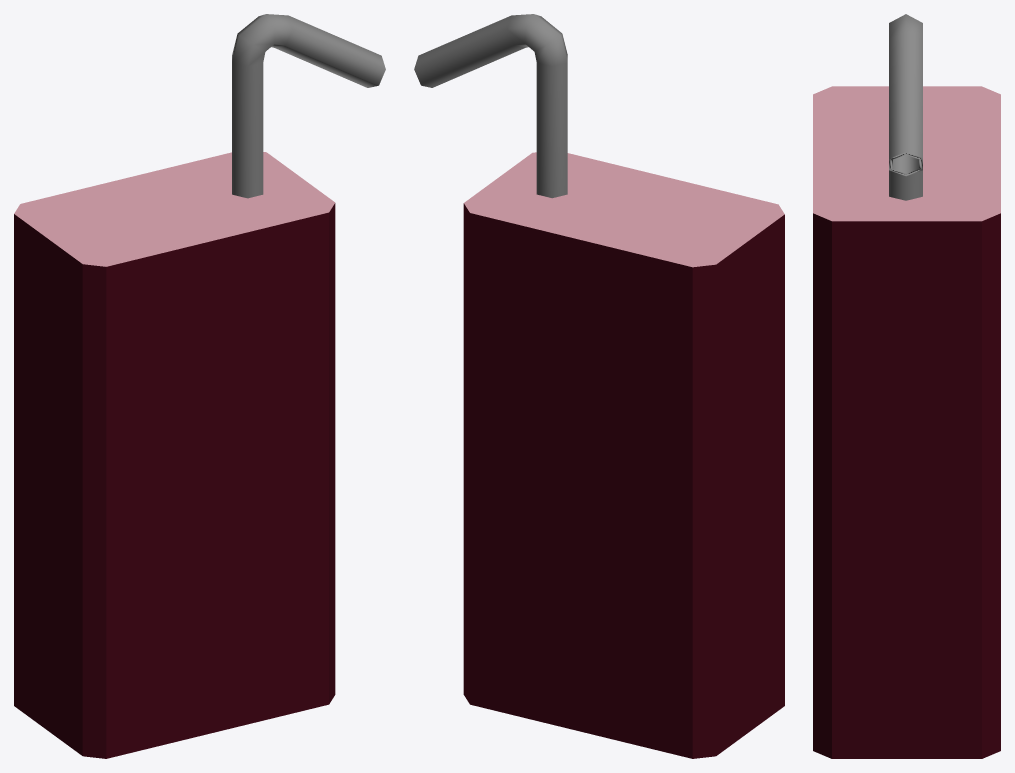
Rendered from Juice_Carton.fbx.
3 views of the same model, side by side, from view 1: azimuth 30°, elevation 25°; view 2: azimuth 150°, elevation 25°; view 3: azimuth 270°, elevation 25° (orthographic). The views are drawn at different scales.
Parts seen in each view (by area): view 1: pCube22; view 2: pCube22; view 3: pCube22.
Part boxes in pixels (x1,y1,x2,y2): pCube22: (14,14,385,758); pCube22: (414,14,784,758); pCube22: (813,14,1000,758).
Bounding box in the file's own units: 12.36 × 23.58 × 5.53.
